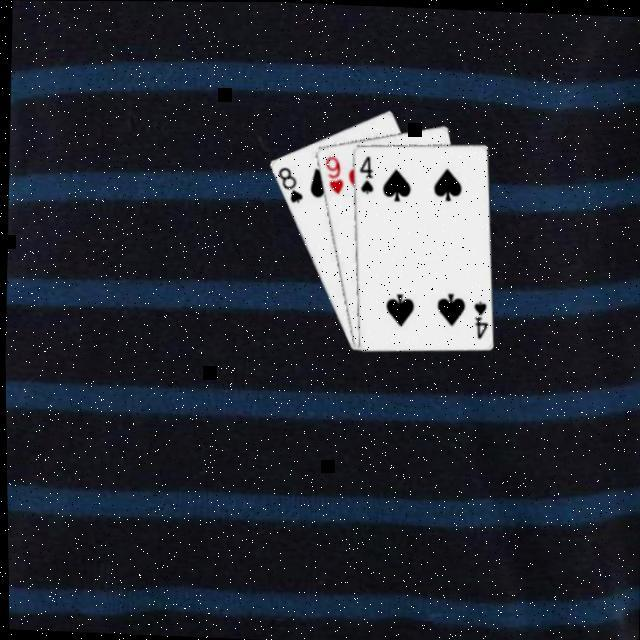4S: (352, 149, 374, 194), (466, 294, 488, 339)
8S: (271, 160, 303, 202)
9H: (318, 150, 344, 193)
